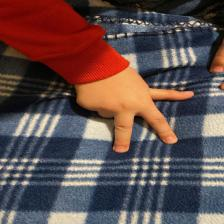three: (72, 68, 197, 156)
